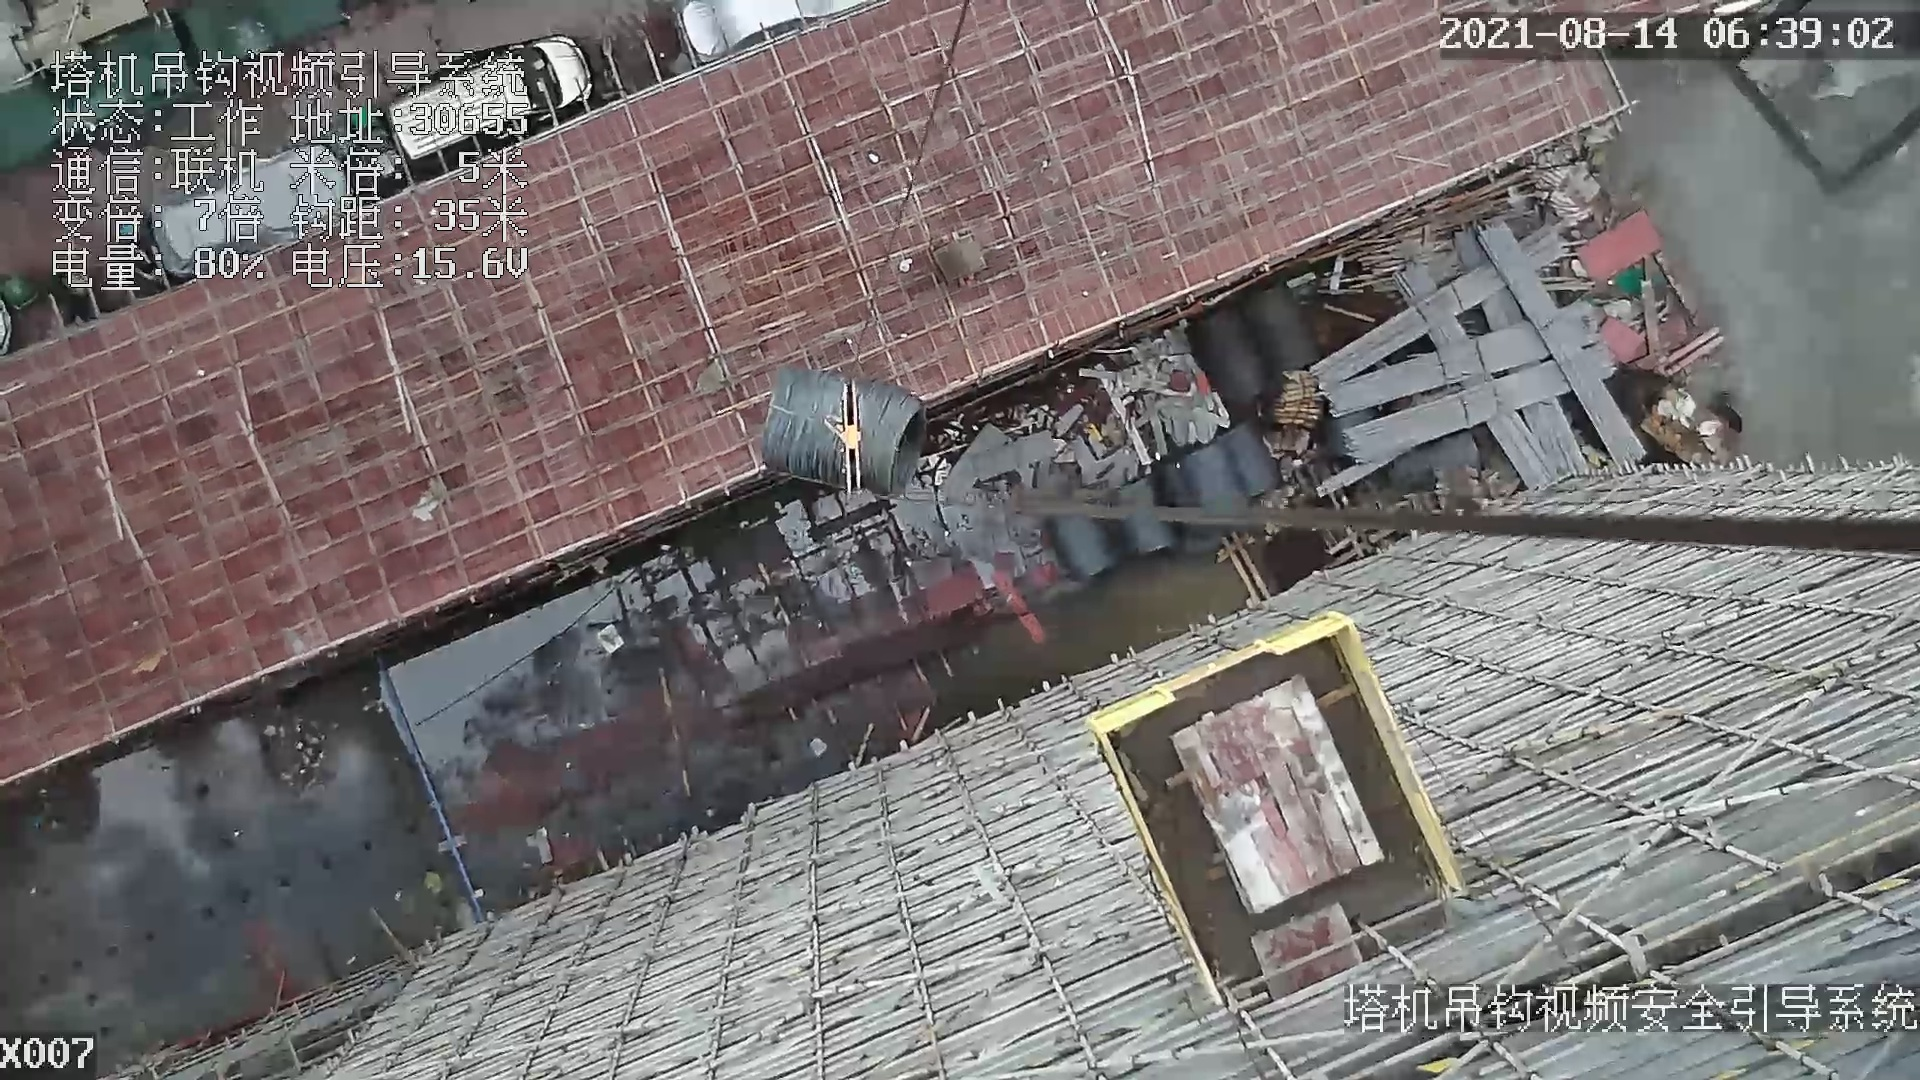hook: (820, 382, 873, 498)
